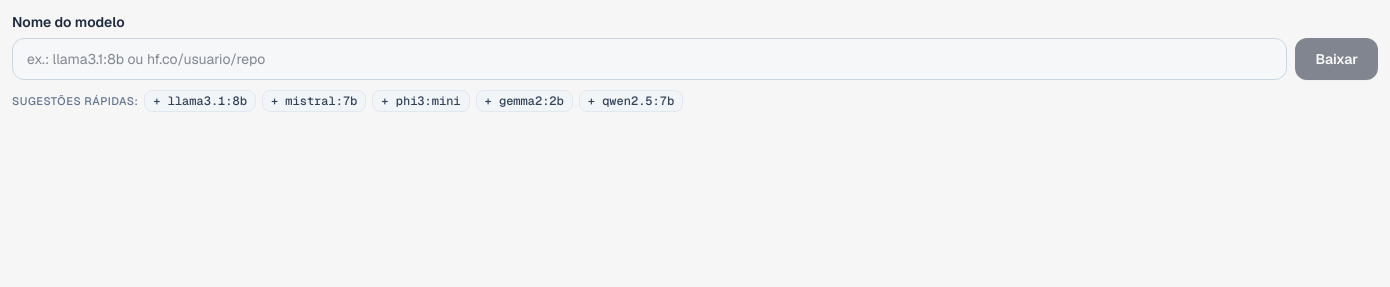
Test case: preview de características para tags do Hugging Face › clique em 'Atualizar características' que devolve 404 (null) limpa o preview sem travar nem quebrar
Type "hf.co/usuario/repo" into the field labelled "Nome do modelo". click: (650, 59)
box: [12,38,1287,80]
Wait 500 ms
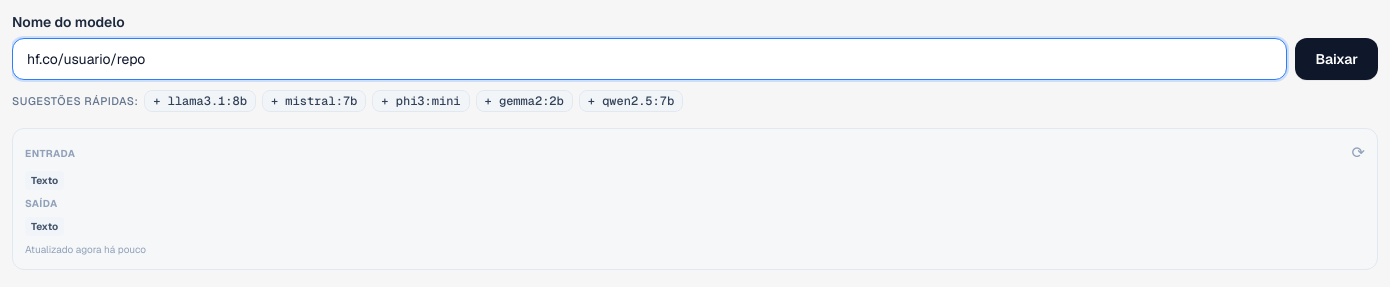
Click the button named "Atualizar características". click: (1358, 153)
box: [1352,141,1365,165]
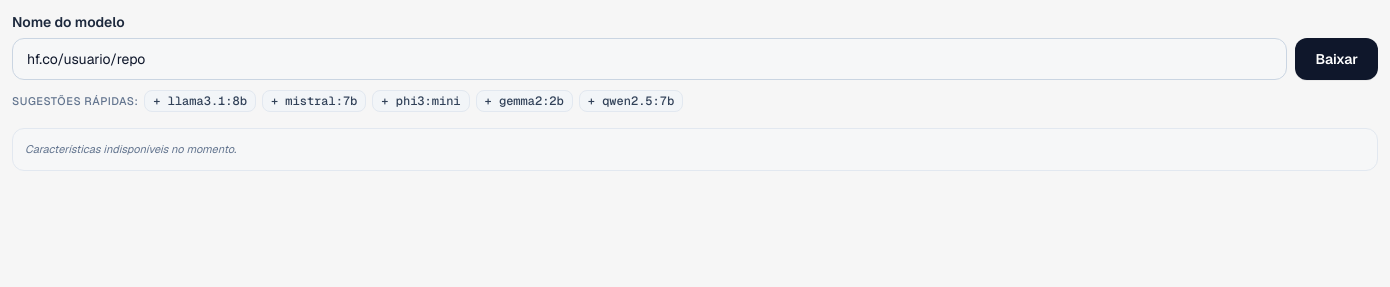
Expected: the text "Características indisponíveis no momento." is shown, [25,142,236,156]
